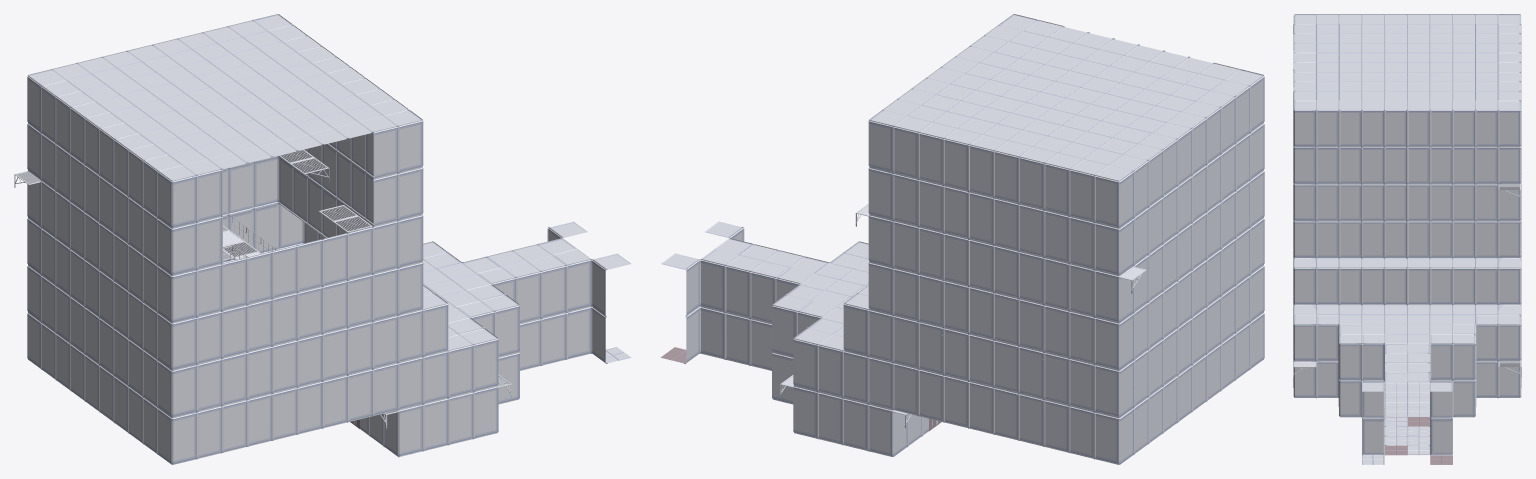
The model's file is Level_3.fbx.
The picture shows the model from 3 angles, left to right: view 1: azimuth 30°, elevation 25°; view 2: azimuth 150°, elevation 25°; view 3: azimuth 270°, elevation 25°; orthographic projection. The views are drawn at different scales.
Parts seen in each view (by area): view 1: polySurface874; view 2: polySurface874; view 3: polySurface874.
Part boxes in pixels (box(x1,y1,x2,y2)): polySurface874: box(14, 14, 630, 464); polySurface874: box(661, 14, 1264, 464); polySurface874: box(1293, 14, 1521, 464).
Bounding box in the file's own units: 4100 × 2520 × 2010.
Materials: 2 (1 with a texture image).
